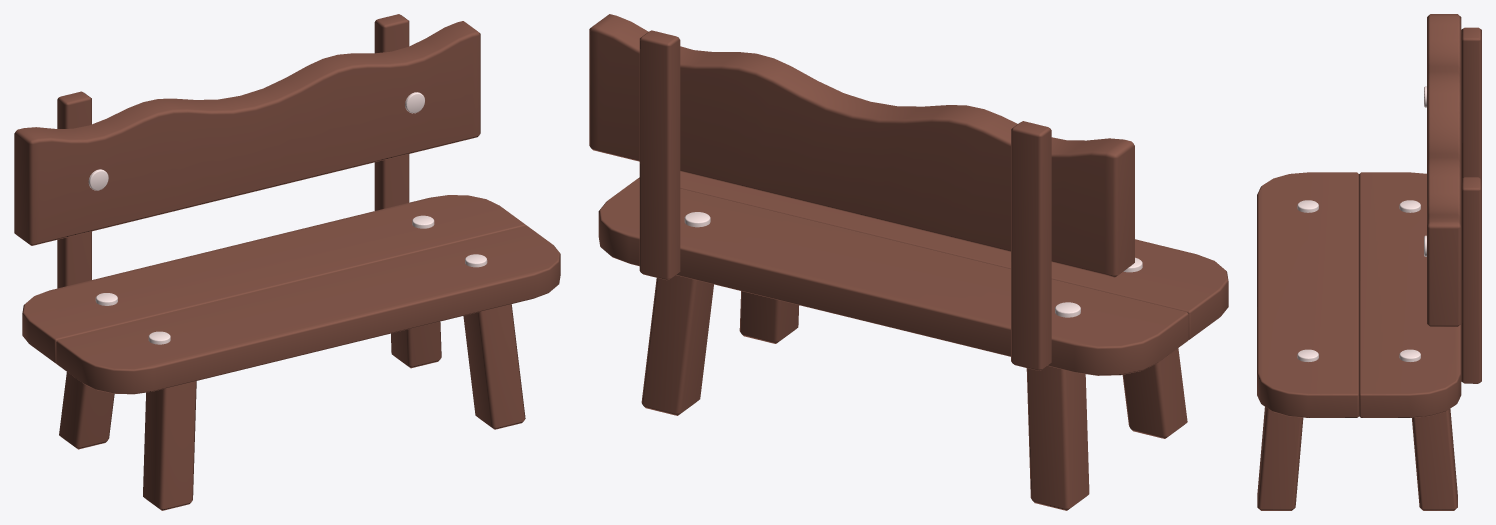
File: Farm_18_Bench_1.glb
3 views of the same model, side by side, from view 1: azimuth 30°, elevation 25°; view 2: azimuth 150°, elevation 25°; view 3: azimuth 270°, elevation 25° (orthographic). The views are drawn at different scales.
Parts seen in each view (by area): view 1: Farm_18_Bench_1; view 2: Farm_18_Bench_1; view 3: Farm_18_Bench_1.
Boxes of the visible parts, x1,y1,x2,y2 form: Farm_18_Bench_1: (14,14,560,510); Farm_18_Bench_1: (589,14,1228,510); Farm_18_Bench_1: (1257,14,1481,510).
Bounding box in the file's own units: 1.76 × 1.17 × 0.7483.
1 material, 1 textured.
